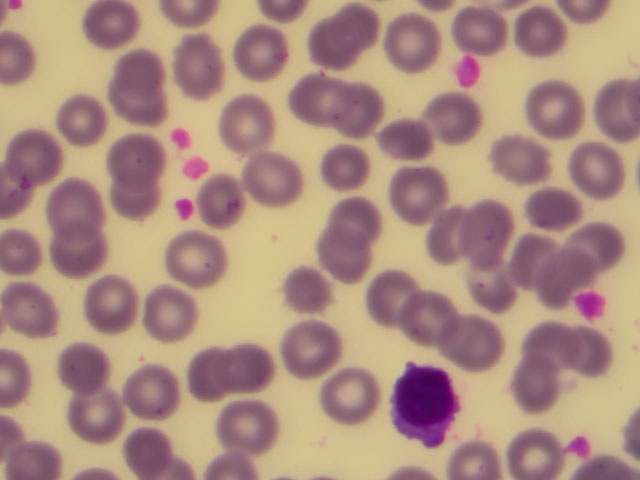Platelets: (449, 52, 486, 93), (570, 289, 605, 318), (560, 431, 591, 458), (173, 124, 194, 154), (183, 156, 213, 176), (171, 195, 194, 218)
RBC: (107, 37, 170, 93), (106, 73, 169, 129), (53, 94, 116, 150), (2, 129, 65, 185), (41, 168, 104, 224), (51, 219, 114, 275), (98, 172, 161, 228), (103, 126, 166, 182), (212, 94, 275, 150), (171, 34, 234, 90), (229, 22, 292, 78), (281, 70, 344, 126), (323, 77, 386, 133), (314, 142, 377, 198), (245, 152, 308, 208), (199, 174, 262, 230), (165, 231, 228, 287), (137, 283, 200, 339), (83, 278, 146, 334), (11, 285, 74, 341), (53, 335, 116, 391), (68, 387, 131, 443), (129, 366, 192, 422), (119, 424, 182, 480), (220, 396, 283, 452), (224, 343, 287, 399), (173, 344, 236, 400), (277, 319, 340, 375), (277, 262, 340, 318), (317, 225, 380, 281), (328, 188, 391, 244), (391, 165, 454, 221), (378, 115, 441, 171), (424, 85, 487, 141), (371, 15, 434, 71), (332, 4, 395, 60), (286, 23, 349, 79), (445, 5, 508, 61), (504, 7, 567, 63), (529, 79, 592, 135), (569, 141, 632, 197), (489, 133, 552, 189), (524, 181, 587, 237), (575, 221, 638, 277), (523, 246, 586, 302), (499, 231, 562, 287), (468, 254, 531, 310), (453, 197, 516, 253), (426, 210, 489, 266), (359, 270, 422, 326), (398, 286, 461, 342), (443, 309, 506, 365), (502, 357, 565, 413), (520, 317, 583, 373), (557, 328, 620, 384), (511, 424, 574, 480), (440, 424, 503, 480), (315, 364, 378, 420), (82, 1, 145, 56)
WBC: (382, 358, 463, 452)
